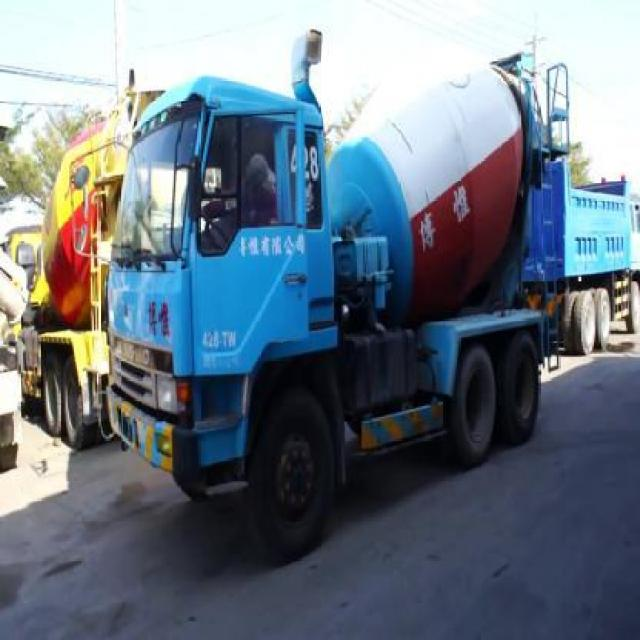Dump Truck: (544, 173, 640, 354)
